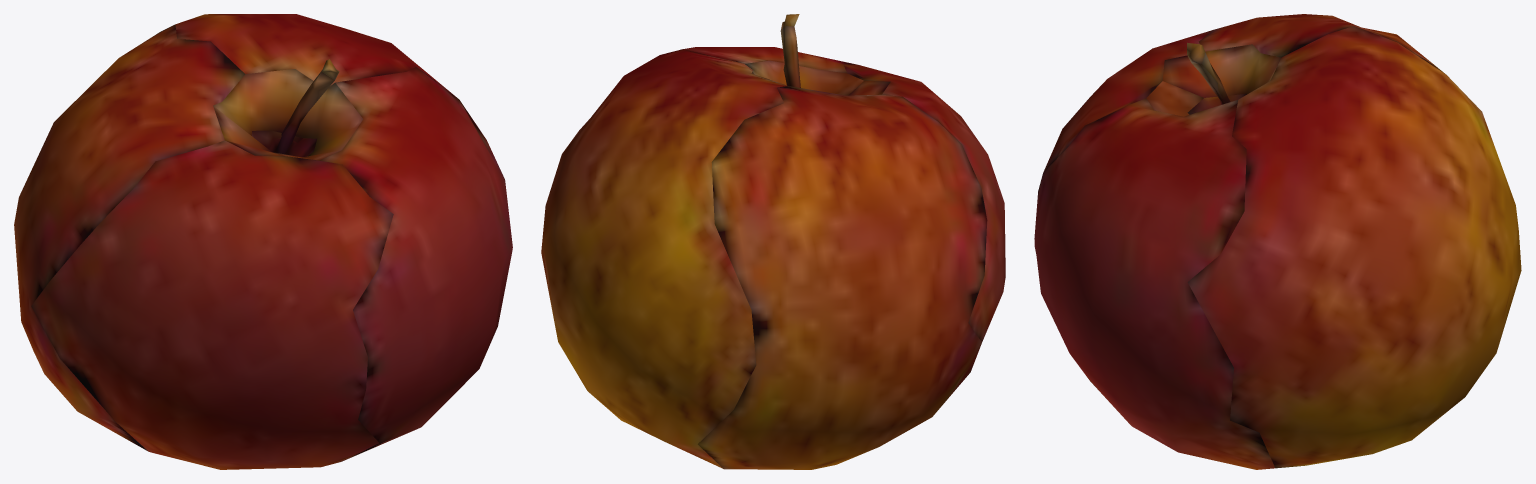
Rendered from food_apple_01.low.glb.
The picture shows the model from 3 angles, left to right: view 1: azimuth 30°, elevation 25°; view 2: azimuth 150°, elevation 25°; view 3: azimuth 270°, elevation 25°; orthographic projection. The views are drawn at different scales.
Parts seen in each view (by area): view 1: body; view 2: body; view 3: body.
Part boxes in pixels (x1,y1,x2,y2): body: (14, 14, 512, 469); body: (541, 14, 1005, 469); body: (1034, 14, 1521, 469).
Size of the model in its own units: 0.0969 by 0.085 by 0.0953.
1 material, 1 textured.
